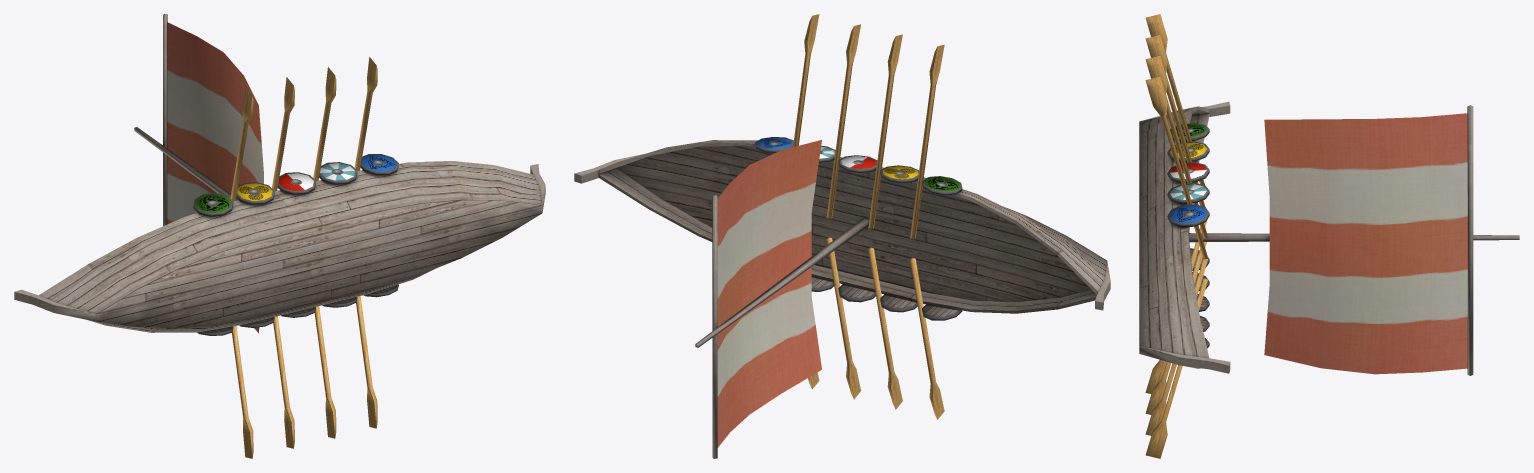
The model's file is VikingShip.mtl.obj.
The picture shows the model from 3 angles, left to right: view 1: azimuth 30°, elevation 25°; view 2: azimuth 150°, elevation 25°; view 3: azimuth 270°, elevation 25°; orthographic projection. The views are drawn at different scales.
Parts seen in each view (by area): view 1: Ship_Circle.000, Oars_Circle.002; view 2: Ship_Circle.000, Oars_Circle.002; view 3: Ship_Circle.000, Oars_Circle.002.
Boxes of the visible parts, <box> form: Ship_Circle.000: <box>14,14,545,335</box>; Oars_Circle.002: <box>230,57,377,458</box>; Ship_Circle.000: <box>574,137,1110,458</box>; Oars_Circle.002: <box>793,14,944,419</box>; Ship_Circle.000: <box>1139,101,1519,375</box>; Oars_Circle.002: <box>1145,14,1207,458</box>.
Bounding box in the file's own units: 4.44 × 2.99 × 2.7.
Materials: 2 (2 with a texture image).
